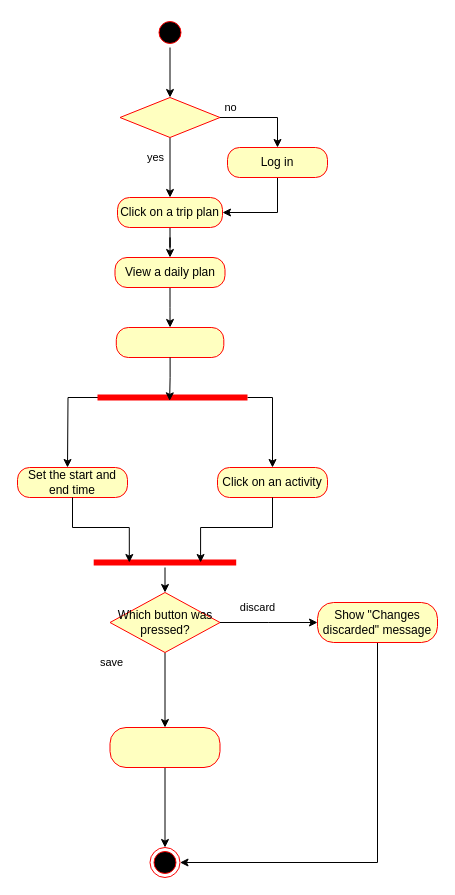
Some shapes in this 455 by 895 pixel diagram are drawn without their labels. Each missing label, with the centre of its shape:
Click on the "+" button: point 169,342
Logged in?: point 169,117
Show "Activity added successfully" message: point 164,747
